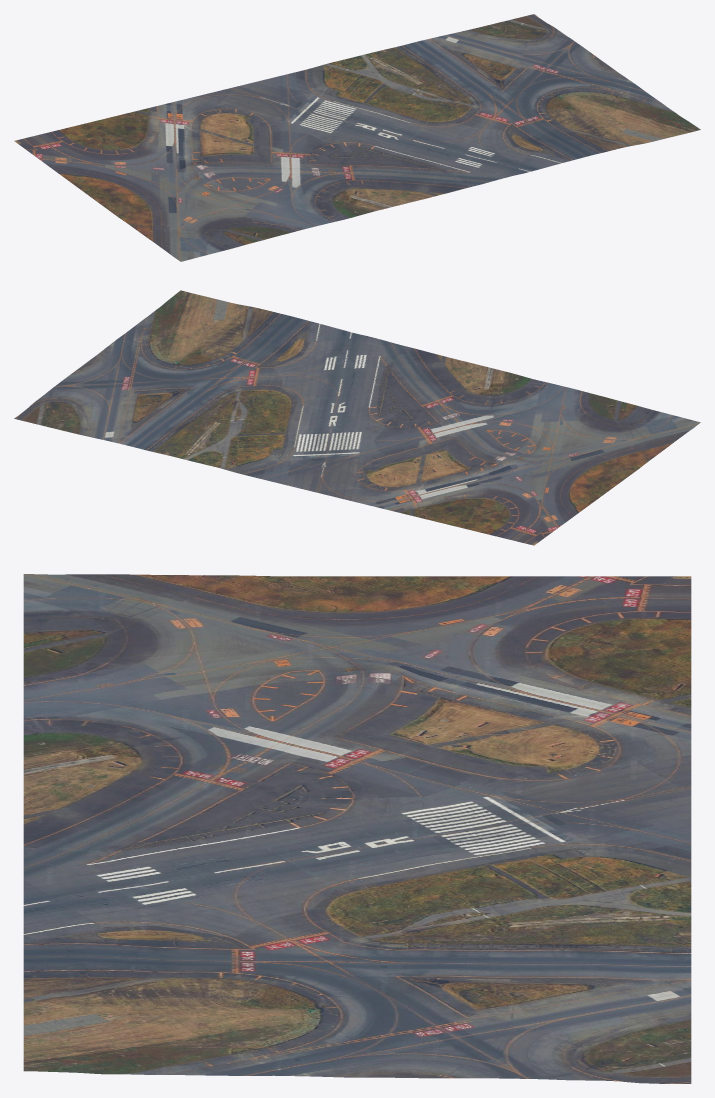
File: jeju.fbx
The picture shows the model from 3 angles, top to bottom: view 1: azimuth 30°, elevation 25°; view 2: azimuth 150°, elevation 25°; view 3: azimuth 270°, elevation 25°; orthographic projection. The views are drawn at different scales.
Parts seen in each view (by area): view 1: RKPC; view 2: RKPC; view 3: RKPC.
Part boxes in pixels (box(x1,y1,x2,y2)): RKPC: box(14, 14, 700, 261); RKPC: box(14, 290, 700, 545); RKPC: box(23, 574, 691, 1083).
Bounding box in the file's own units: 5503 × 75 × 3057.
